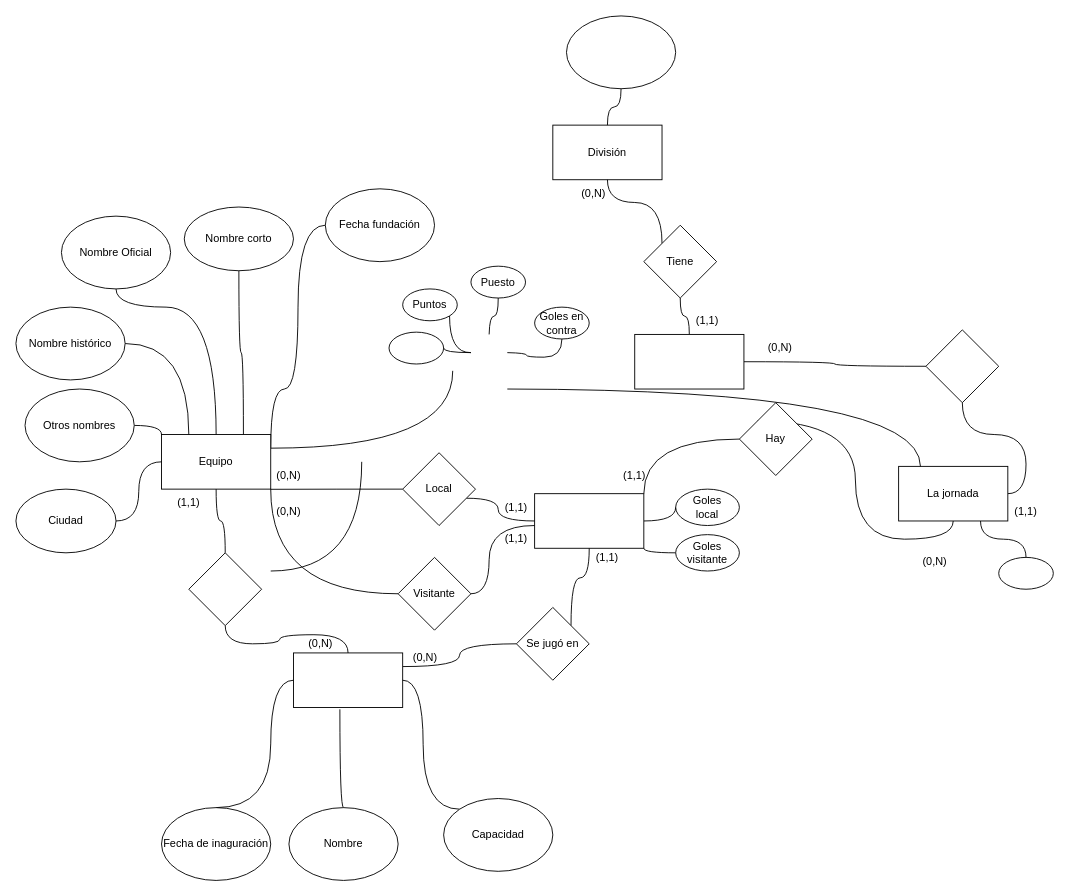
The diagram is 1069 pixels wide and 896 high, and some of its shapes have lost their labels. Each missing label, with the centre of its shape:
"Denominación oficial" belongs at point (621, 52).
"Estadios" belongs at point (348, 680).
"Goles a favor" belongs at point (416, 347).
"Número" belongs at point (1025, 572).
"Partido" belongs at point (589, 520).
"Pertenece" belongs at point (962, 366).
"Sede" belongs at point (225, 589).
"Temporadas" belongs at point (689, 361).
